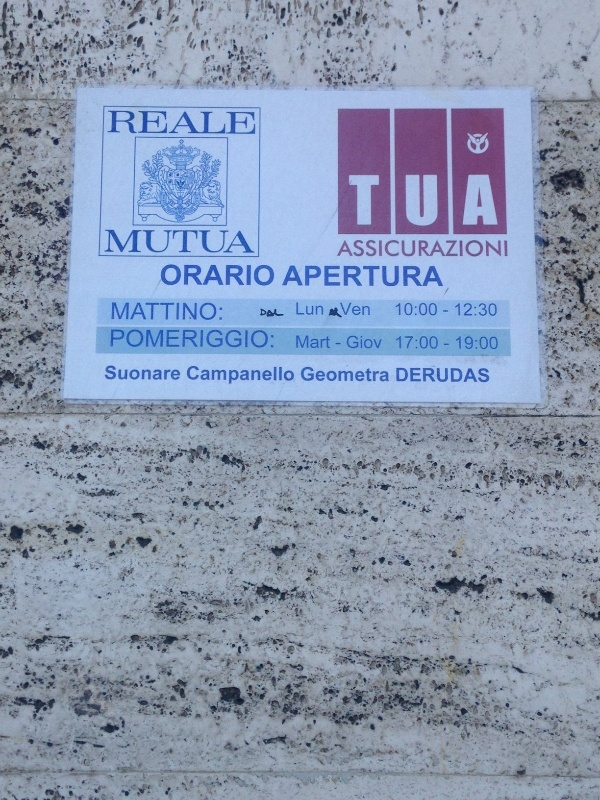text: (353, 174, 368, 227), (417, 174, 432, 227), (481, 174, 496, 226), (468, 174, 480, 226), (369, 174, 380, 227), (405, 174, 416, 227), (113, 110, 128, 136), (129, 110, 144, 136), (145, 110, 160, 136), (161, 110, 176, 136), (177, 110, 192, 136), (193, 110, 208, 136), (209, 110, 224, 136), (225, 110, 240, 136), (241, 110, 256, 136), (113, 230, 128, 255), (129, 230, 144, 255), (145, 230, 160, 255), (161, 230, 176, 255), (177, 230, 192, 255), (193, 230, 208, 255), (209, 230, 224, 255), (225, 230, 240, 255), (241, 230, 255, 255), (161, 265, 176, 287), (177, 265, 192, 287), (193, 265, 208, 287), (209, 265, 224, 287), (225, 265, 240, 287), (241, 265, 256, 287), (257, 265, 272, 287), (433, 174, 439, 227), (305, 266, 320, 287), (321, 266, 336, 287), (337, 266, 352, 287), (353, 266, 368, 287), (369, 266, 384, 287), (385, 266, 400, 287), (401, 266, 416, 287), (417, 266, 432, 287), (193, 364, 208, 385), (209, 364, 224, 385), (225, 364, 240, 385), (241, 364, 256, 385), (257, 364, 272, 385), (273, 364, 288, 385), (337, 238, 352, 259), (353, 238, 368, 259), (369, 238, 384, 259), (385, 238, 400, 259), (401, 238, 416, 259), (417, 238, 432, 259), (433, 238, 448, 259), (449, 238, 464, 259), (465, 238, 480, 259), (481, 238, 496, 259), (290, 266, 304, 287), (113, 302, 128, 321), (129, 302, 144, 321), (145, 302, 160, 321), (161, 302, 176, 321), (177, 302, 192, 321), (193, 302, 208, 321), (113, 329, 128, 348), (129, 329, 144, 348), (145, 329, 160, 348), (161, 329, 176, 348), (177, 329, 192, 348), (193, 329, 208, 348), (209, 329, 224, 348), (225, 329, 240, 348), (241, 329, 256, 348), (257, 329, 272, 348), (209, 302, 223, 321), (433, 266, 445, 287), (497, 238, 509, 259), (113, 365, 128, 381), (129, 365, 144, 381), (145, 365, 160, 381), (161, 365, 176, 381), (305, 300, 320, 316), (401, 335, 416, 351), (417, 335, 432, 351), (305, 367, 320, 383), (321, 367, 336, 383), (337, 367, 352, 383), (353, 367, 368, 383), (369, 367, 384, 383), (305, 335, 320, 350), (353, 335, 368, 350), (401, 302, 416, 317), (417, 302, 432, 317), (465, 336, 480, 351), (481, 336, 496, 351), (401, 368, 416, 383), (417, 368, 432, 383), (433, 368, 448, 383), (449, 368, 464, 383), (465, 368, 480, 383), (353, 302, 368, 316), (369, 335, 383, 350), (465, 303, 480, 317), (481, 303, 496, 317), (104, 230, 112, 255), (340, 302, 352, 316), (349, 174, 352, 227), (321, 335, 330, 350), (481, 368, 490, 383), (289, 364, 295, 385), (455, 303, 464, 317), (296, 335, 304, 350), (456, 336, 464, 351), (105, 365, 112, 381), (297, 300, 304, 316), (108, 110, 112, 136), (497, 174, 499, 226), (433, 335, 439, 351), (188, 364, 192, 385), (385, 367, 390, 383), (347, 335, 352, 350), (433, 302, 438, 317), (273, 265, 276, 287), (177, 365, 181, 381), (396, 335, 400, 351), (396, 302, 400, 317), (396, 368, 400, 383), (321, 300, 324, 316), (301, 367, 304, 383), (273, 329, 275, 348), (497, 336, 499, 351), (369, 302, 371, 316), (111, 329, 112, 348), (444, 343, 448, 347), (443, 310, 448, 313), (497, 303, 498, 317), (337, 343, 341, 346), (449, 343, 450, 347)
